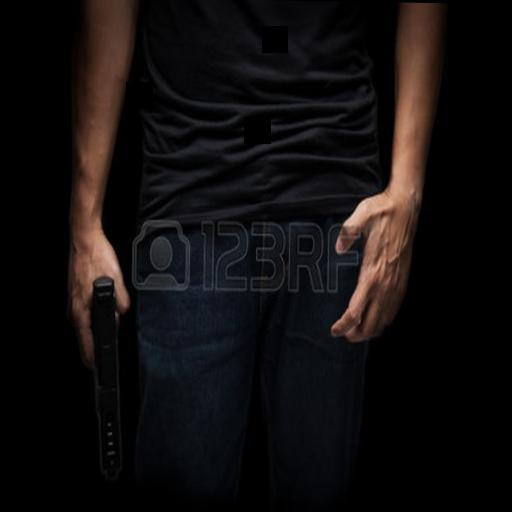Handgun: (82, 274, 126, 483)
